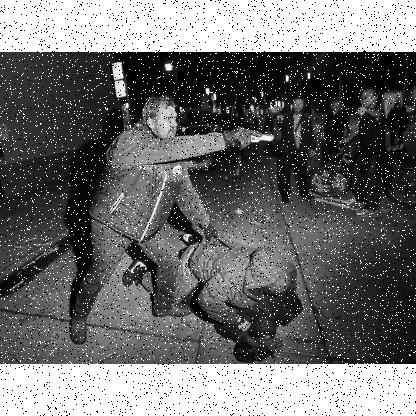gun: (226, 129, 275, 155)
